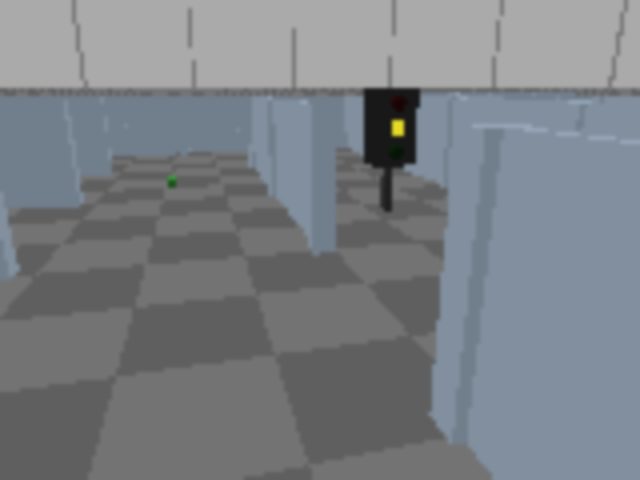traffic_light: (362, 81, 420, 215)
